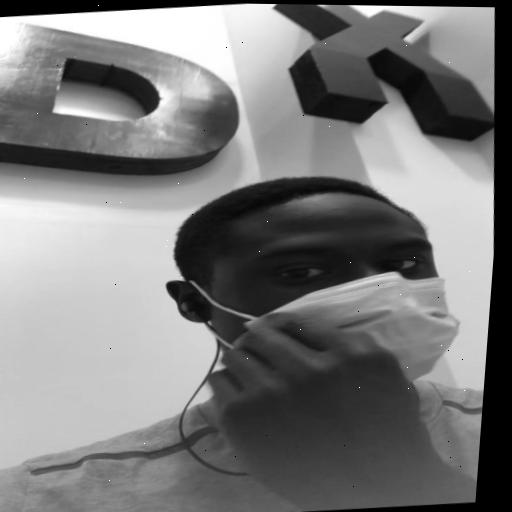mask: (179, 203, 473, 400)
